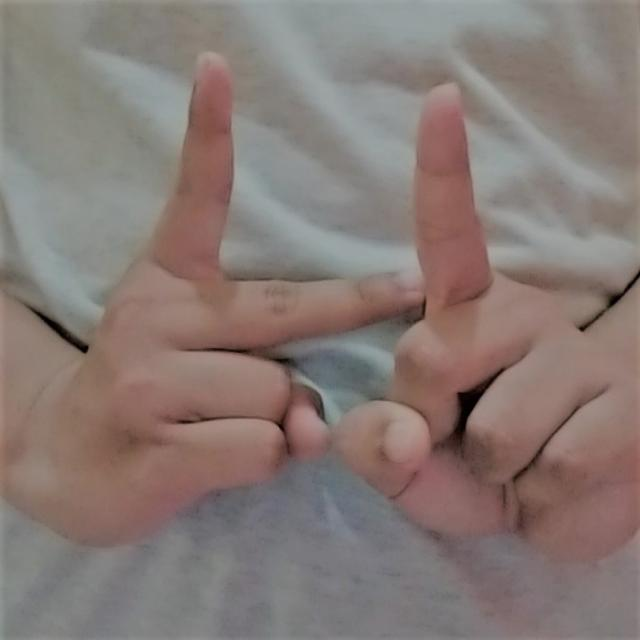H: (31, 42, 626, 574)
